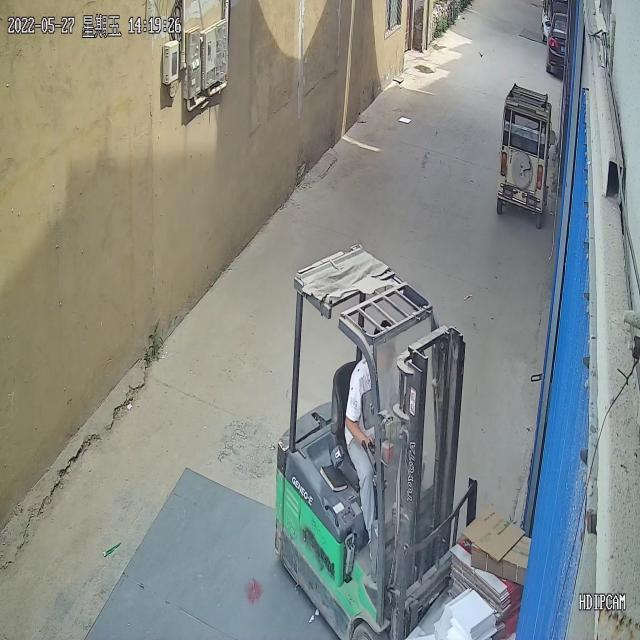forklift: (278, 252, 489, 597)
